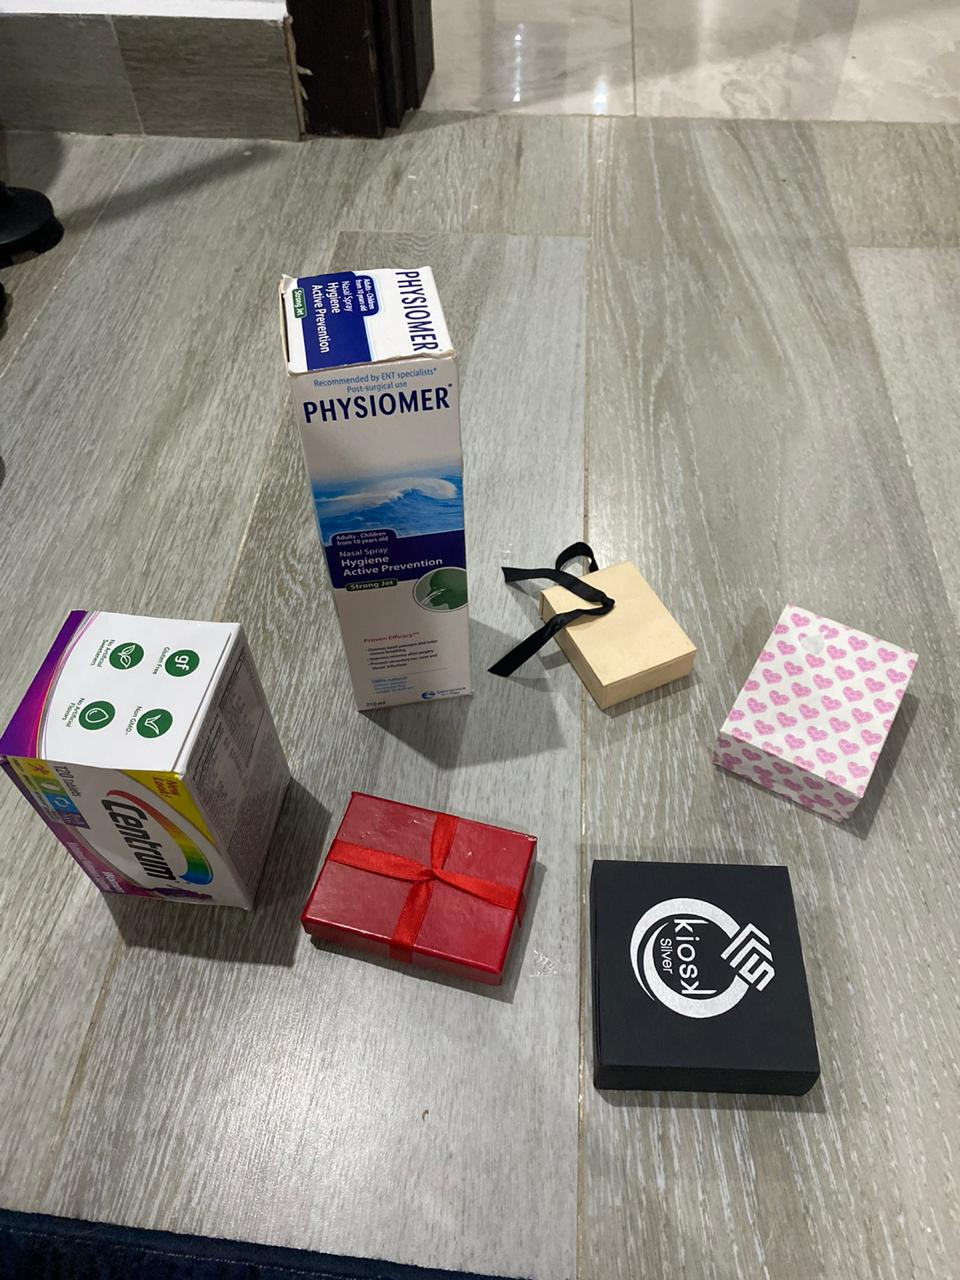Black Box: (309, 798, 541, 1000)
Centrum: (8, 607, 297, 913)
Physiomer: (275, 259, 483, 720)
Pink Box: (717, 602, 920, 838)
Red Box: (586, 856, 823, 1111)
Yellow Box: (531, 557, 704, 716)
